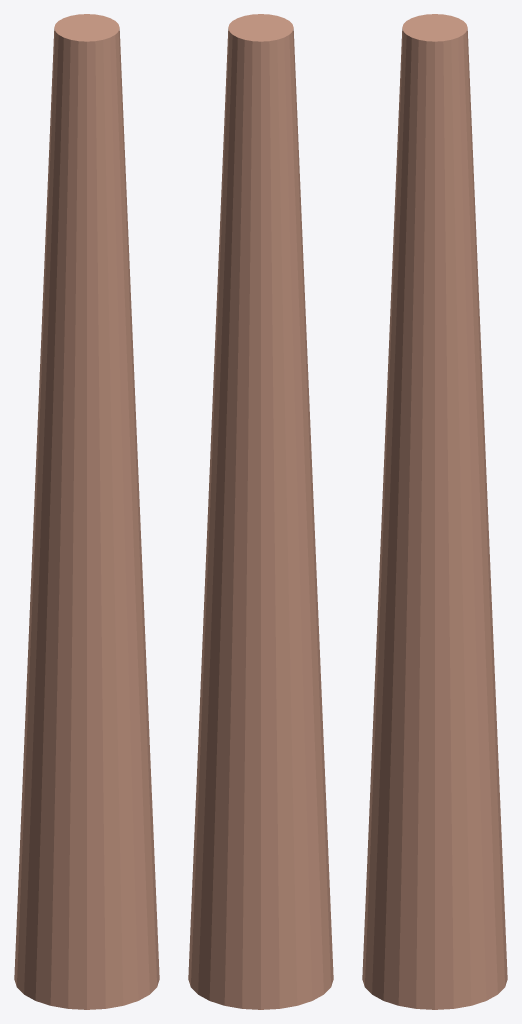
Rendered from place-minaret-of-jam.glb.
3 renders of one model, left to right at view 1: azimuth 30°, elevation 25°; view 2: azimuth 150°, elevation 25°; view 3: azimuth 270°, elevation 25°, orthographic.
Visible parts, largest first — view 1: place-minaret-of-jam; view 2: place-minaret-of-jam; view 3: place-minaret-of-jam.
Part boxes in pixels (x1,y1,x2,y2): place-minaret-of-jam: (14,14,159,1009); place-minaret-of-jam: (188,14,333,1009); place-minaret-of-jam: (362,14,507,1009).
Bounding box in the file's own units: 9 × 65 × 9.
